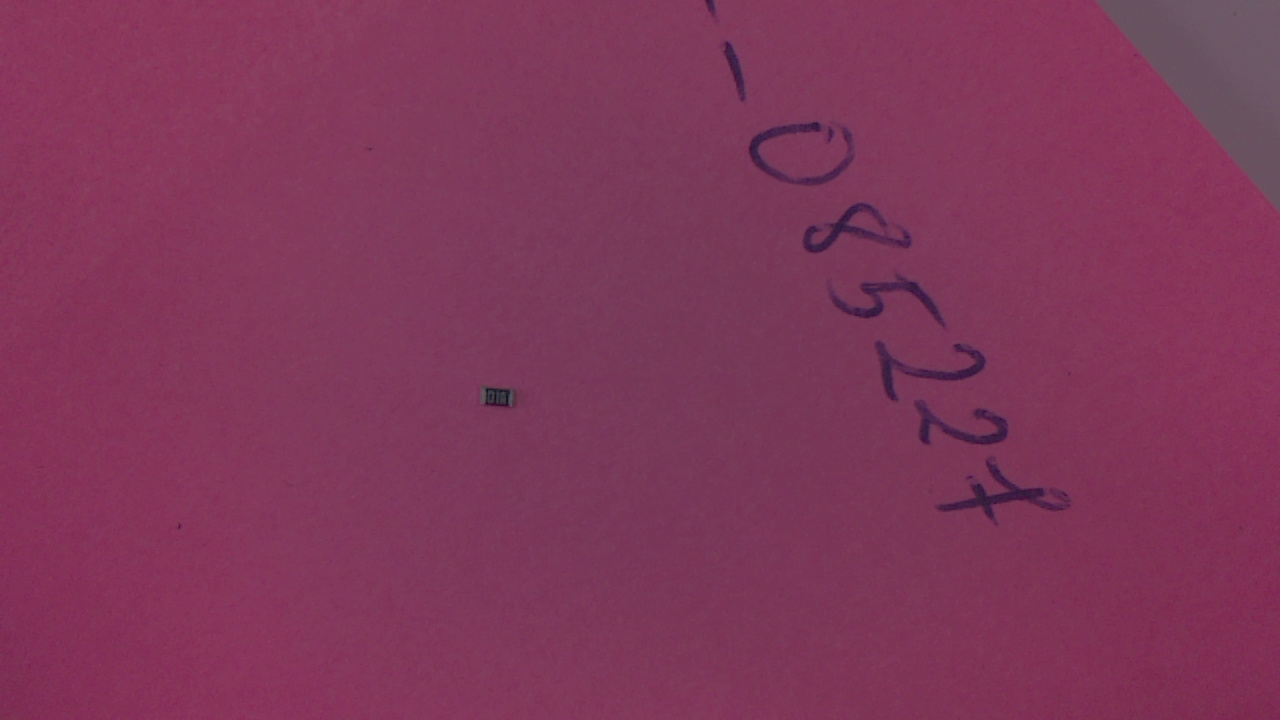Resistor: (480, 389, 523, 416)
